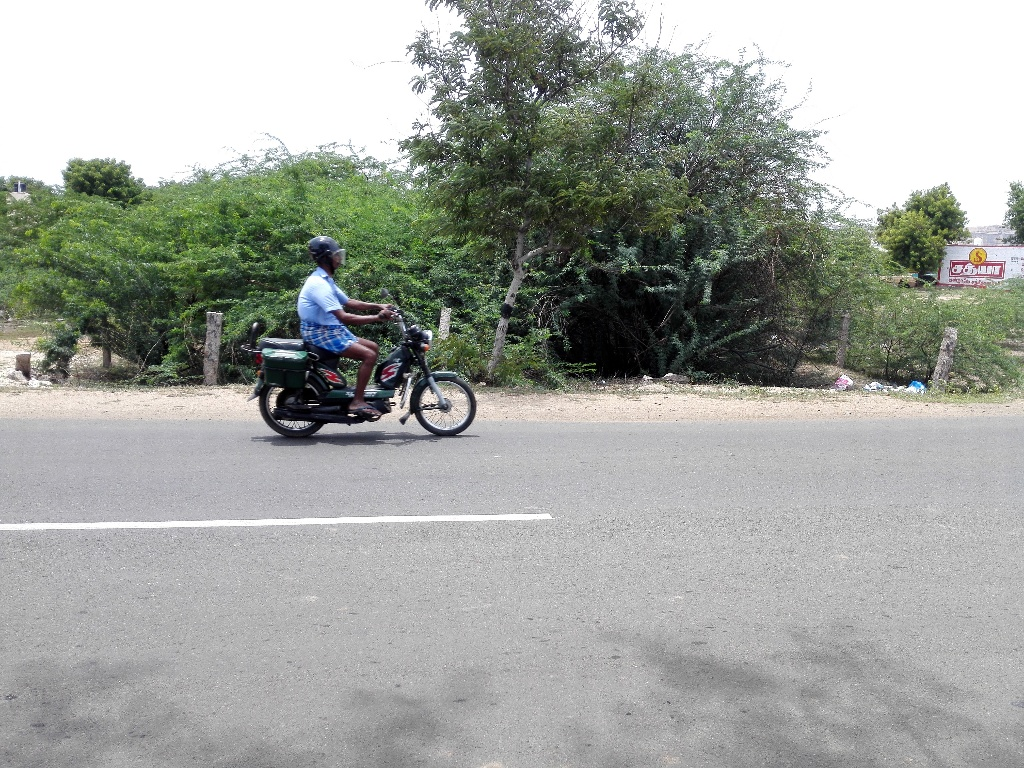biker: (227, 190, 512, 455)
helmet: (301, 225, 353, 287)
